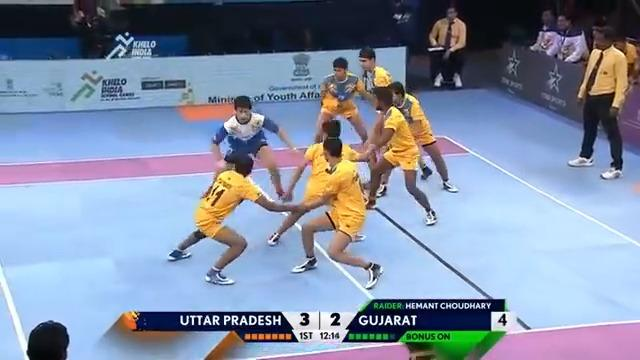Player: (166, 149, 303, 285), (267, 134, 384, 289), (360, 86, 437, 226), (384, 81, 458, 193), (312, 56, 374, 145)
Raider: (209, 94, 297, 200)
referee: (567, 25, 629, 179), (427, 5, 467, 89), (539, 12, 589, 63)
